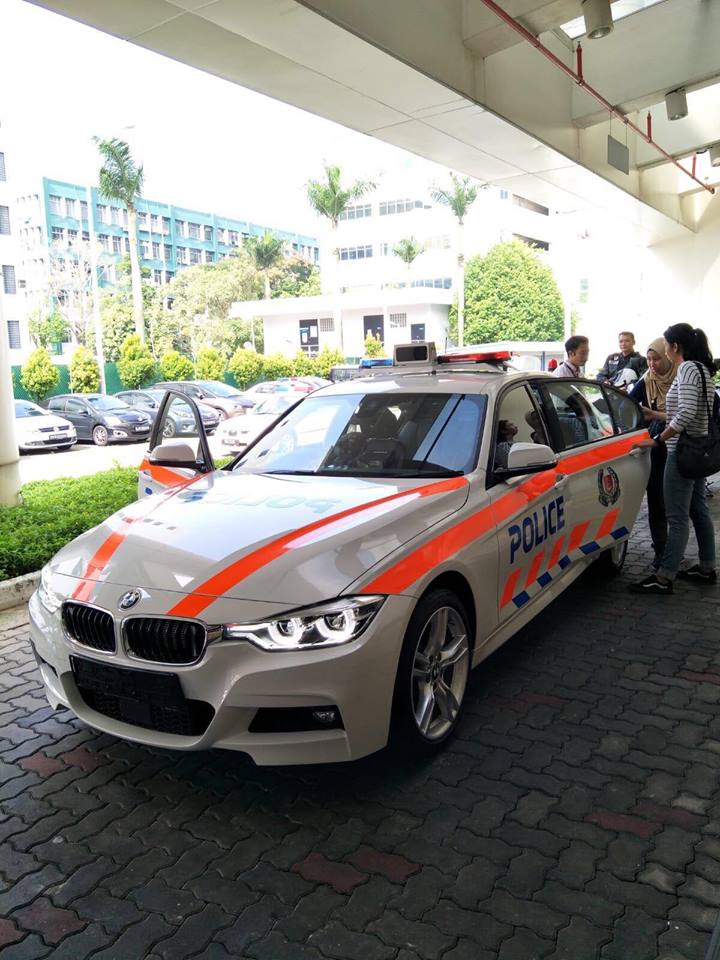Car: (26, 356, 679, 768)
